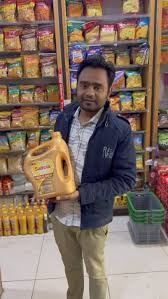saffola: (15, 130, 84, 206)
